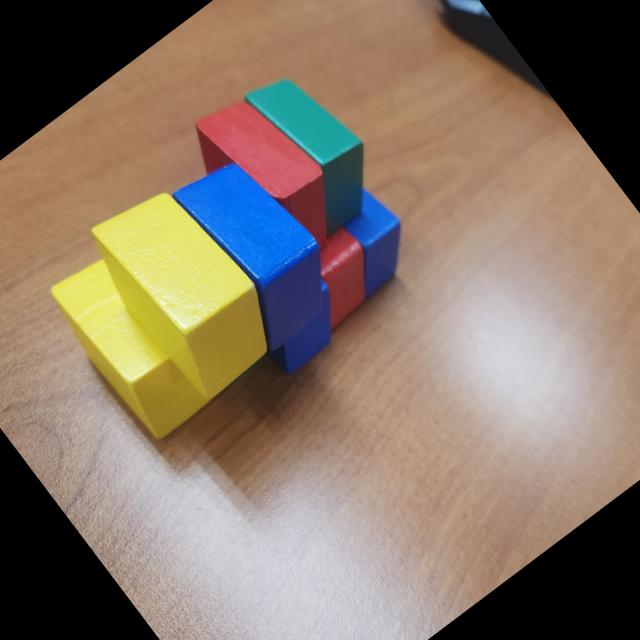blue: (156, 138, 358, 356), (219, 234, 361, 380), (307, 176, 429, 302)
green: (226, 55, 397, 241)
red: (176, 77, 363, 279), (280, 216, 400, 336)
yellow: (74, 168, 296, 408), (40, 242, 226, 448)
